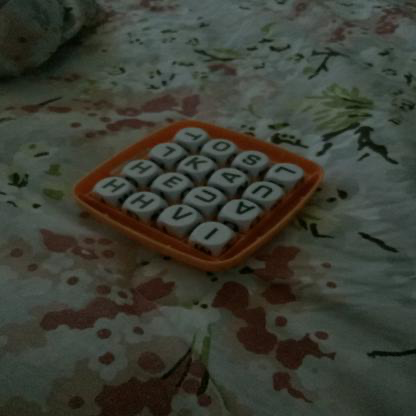a: (231, 199, 259, 220), (218, 169, 246, 187)
e: (162, 173, 186, 192)
h: (129, 192, 159, 213), (128, 159, 158, 178), (101, 177, 130, 196)
i: (197, 225, 228, 244)
k: (183, 154, 211, 173)
l: (273, 163, 299, 179), (158, 144, 180, 161)
o: (210, 141, 234, 155)
s: (241, 152, 264, 169)
t: (180, 128, 207, 145)
u: (192, 187, 220, 205), (251, 182, 277, 201)
v: (169, 205, 197, 224)
